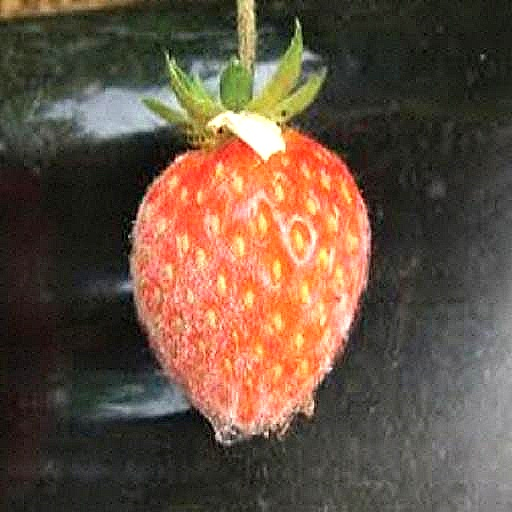Powdery Mildew Fruit: (131, 126, 373, 439)
